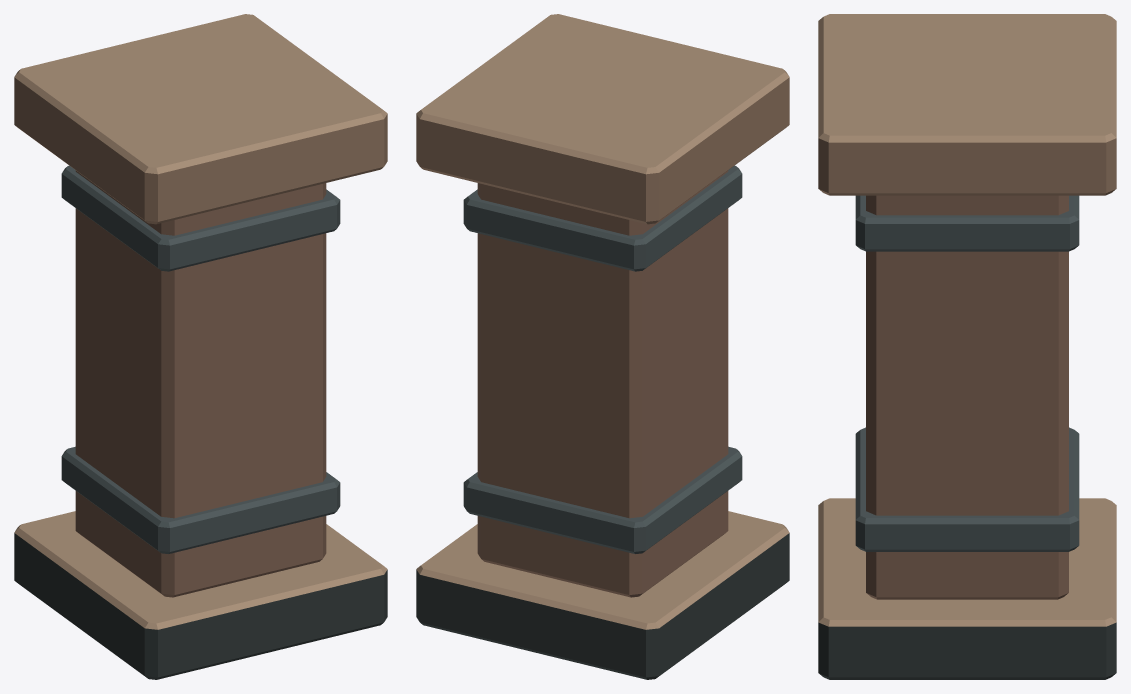
Rendered from pillar-small.glb.
3 views of the same model, side by side, from view 1: azimuth 30°, elevation 25°; view 2: azimuth 150°, elevation 25°; view 3: azimuth 270°, elevation 25° (orthographic). The views are drawn at different scales.
Parts seen in each view (by area): view 1: pillar-small__body; view 2: pillar-small__body; view 3: pillar-small__body.
Boxes of the visible parts, box(x1,y1,x2,y2) form: pillar-small__body: box(14, 14, 387, 679); pillar-small__body: box(416, 14, 789, 679); pillar-small__body: box(818, 14, 1116, 679).
Bounding box in the file's own units: 0.72 × 1.45 × 0.72.
